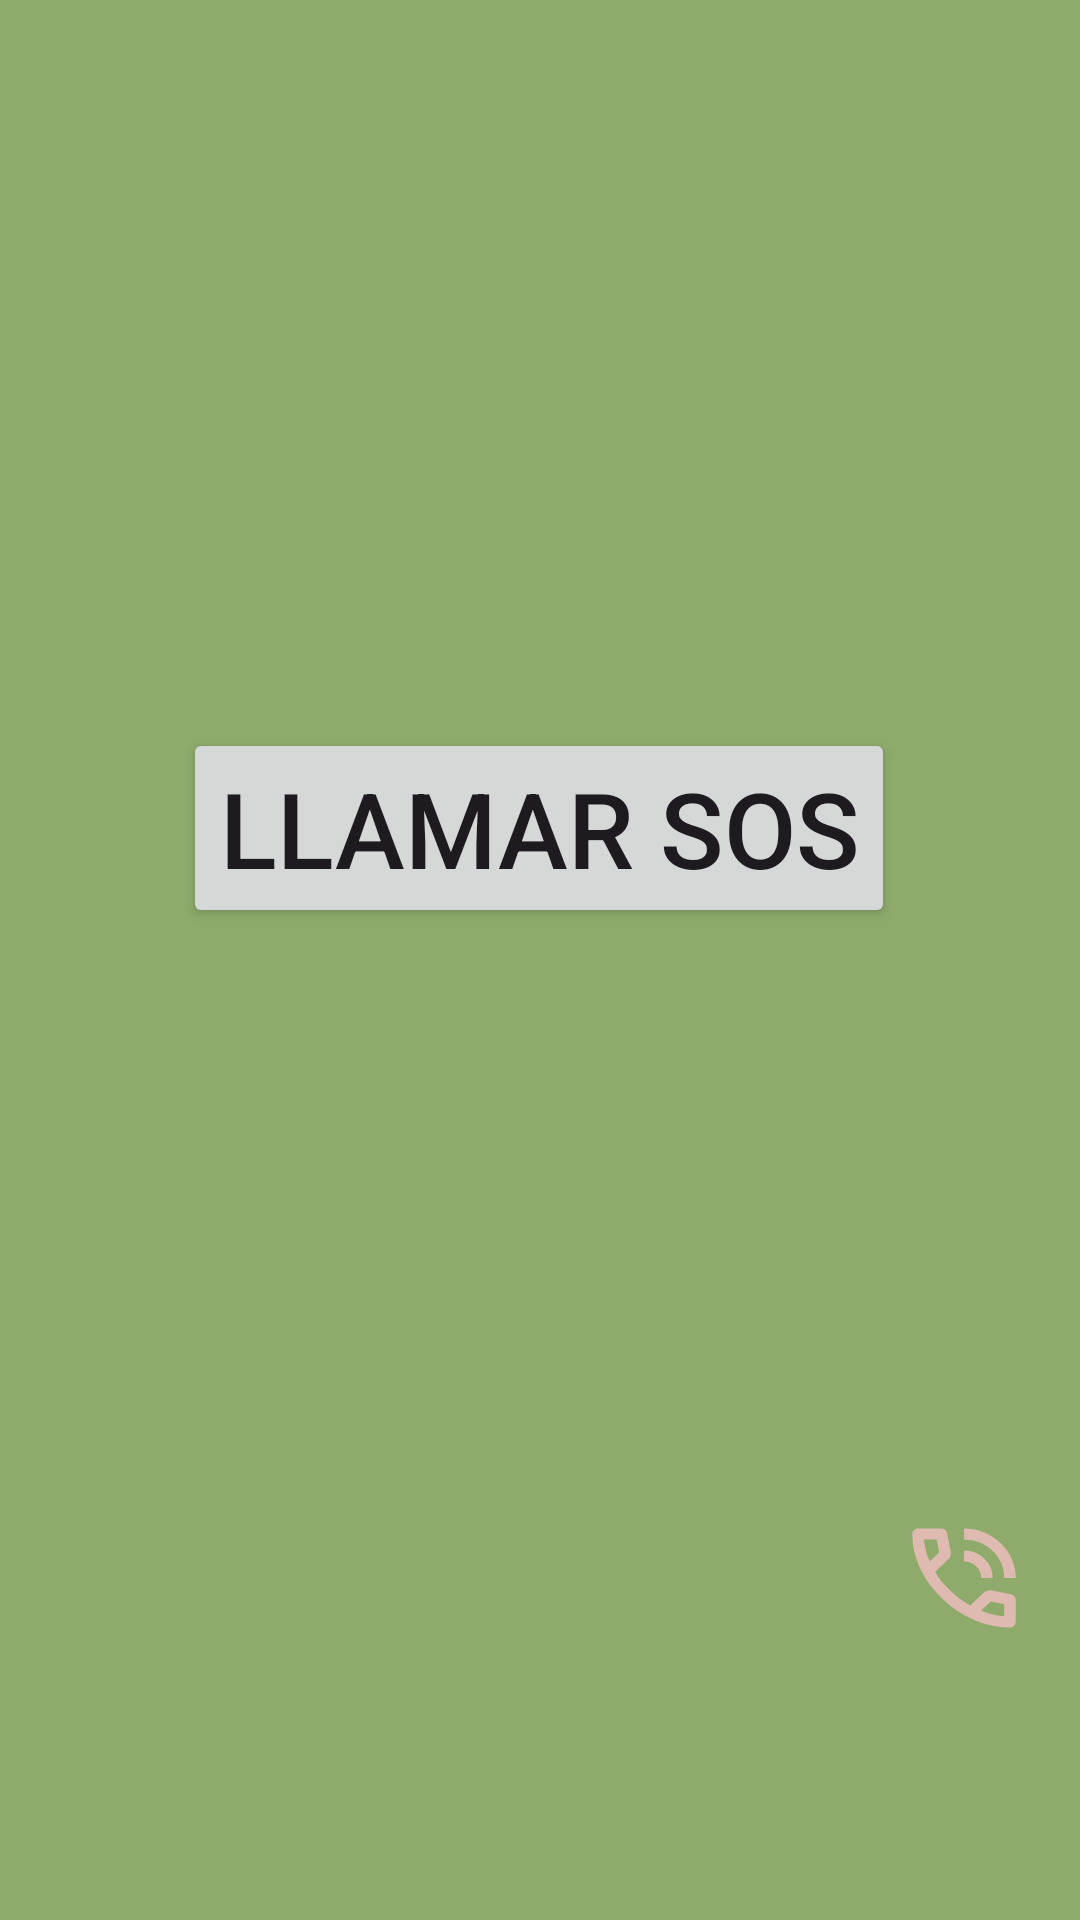

Screen size 1080x1920. Icon name, then its center in pixels as [x,y]:
telefono: [964,1578]
